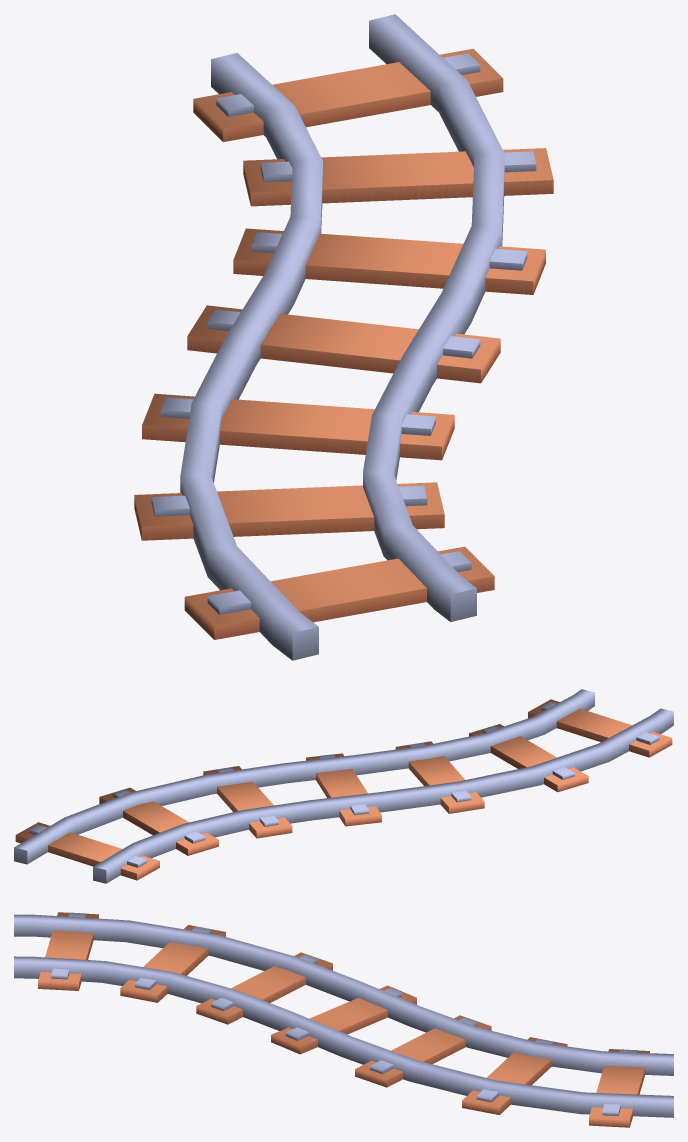
Rendered from railroad-curve.glb.
3 renders of one model, top to bottom at view 1: azimuth 30°, elevation 25°; view 2: azimuth 150°, elevation 25°; view 3: azimuth 270°, elevation 25°, orthographic. The views are drawn at different scales.
Parts seen in each view (by area): view 1: railroad-curve; view 2: railroad-curve; view 3: railroad-curve.
Boxes of the visible parts, <box> form: railroad-curve: <box>134,14,553,660</box>; railroad-curve: <box>14,689,673,883</box>; railroad-curve: <box>14,912,673,1127</box>.
Size of the model in its own units: 2.98 by 0.1 by 4.
Materials: 1 (1 with a texture image).
